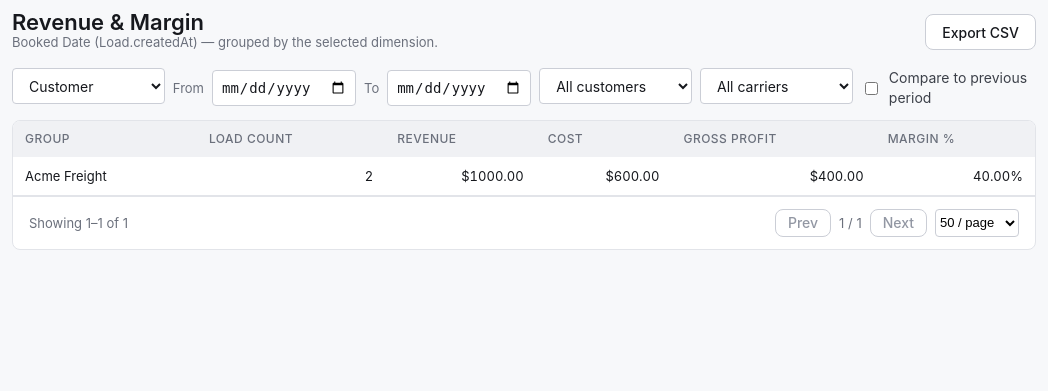
ReportDetailPage — Frontend Phase 21 › Revenue & Margin sends the selected groupBy and toggling Compare requests a previousPeriod
This screenshot has width=1048, height=391.
Expected: the text "Acme Freight" is shown, [13,157,197,195]
Click the text "Compare to previous period" at (948, 88), box [861,68,1036,108]
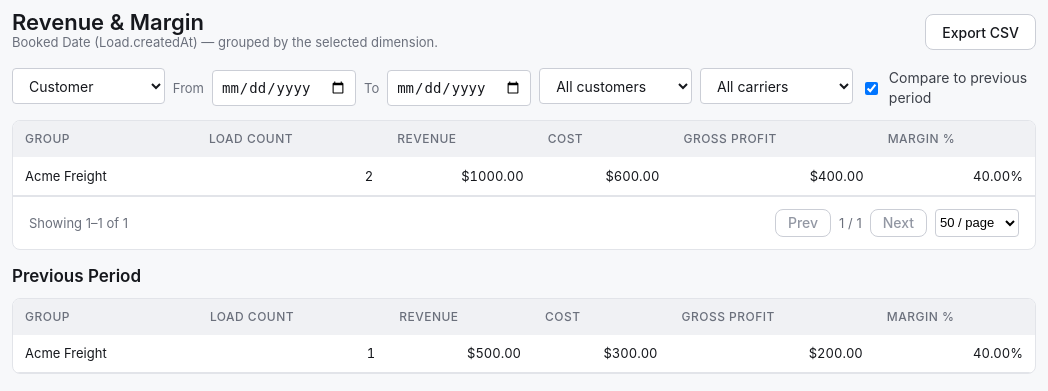
Result: the heading "Previous Period" is shown at [12,266,141,286]
